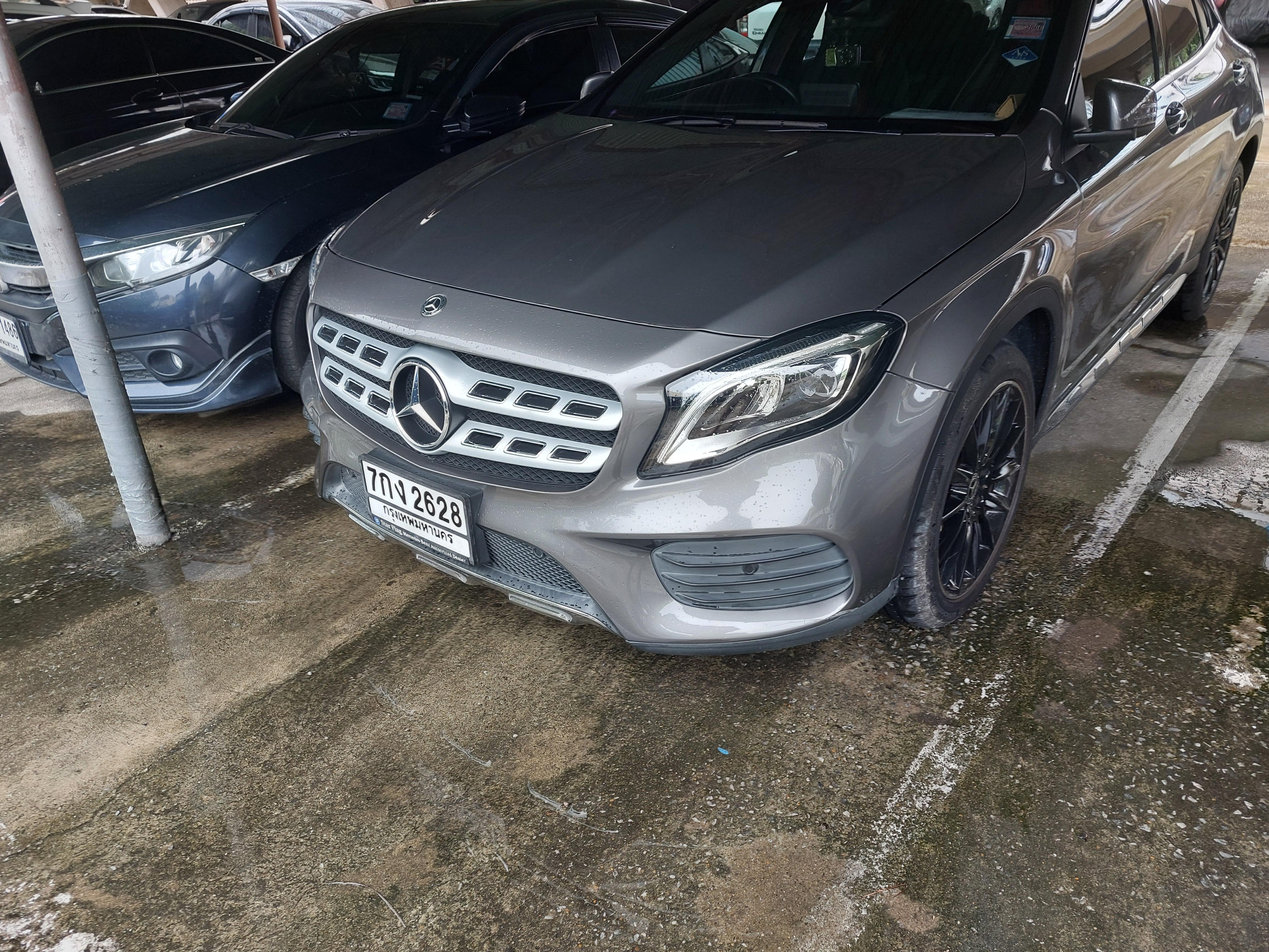license-plate: (357, 446, 496, 583)
